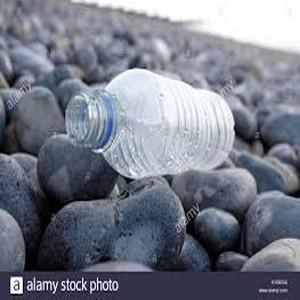Plastic: (64, 65, 235, 178)
